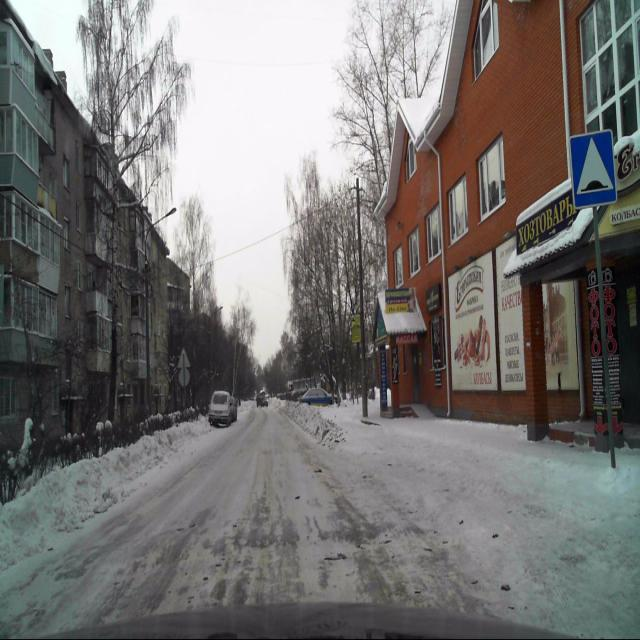object: (592, 208, 617, 468)
road sign: (568, 128, 614, 207)
